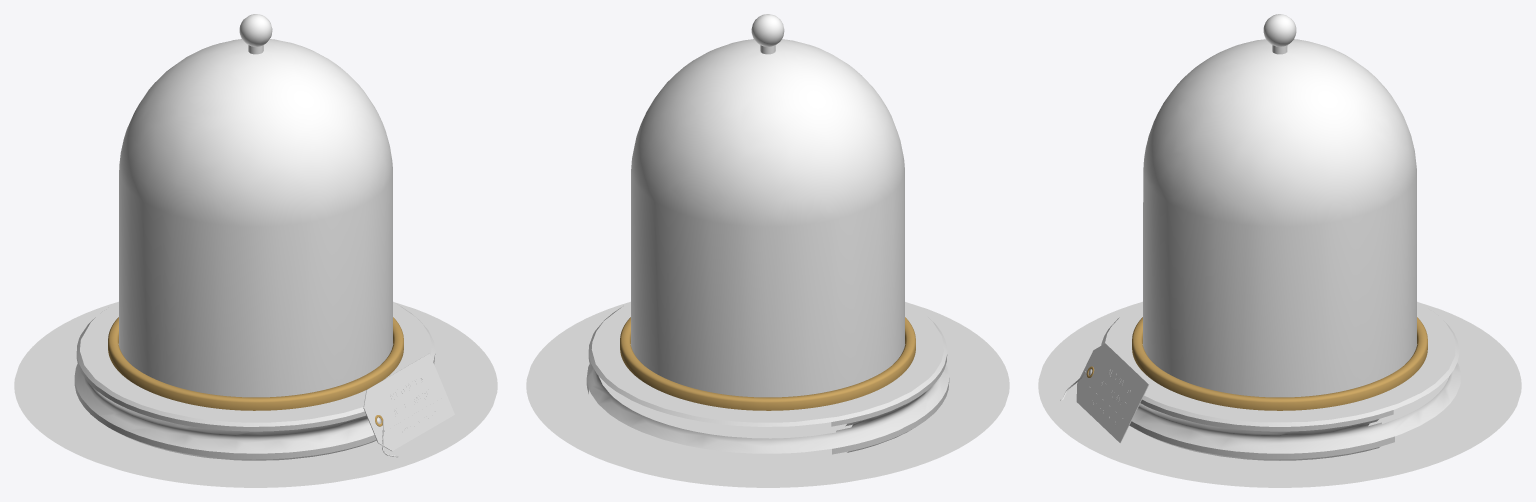
The picture shows the model from 3 angles, left to right: view 1: azimuth 30°, elevation 25°; view 2: azimuth 150°, elevation 25°; view 3: azimuth 270°, elevation 25°; orthographic projection.
Visible parts, largest first — view 1: jar_glass, set_all, jar_rim; view 2: jar_glass, set_all, jar_rim; view 3: jar_glass, set_all, jar_rim.
Part boxes in pixels (<box>): jar_glass: <box>119,14,392,397</box>; set_all: <box>14,301,497,487</box>; jar_rim: <box>108,317,403,410</box>; jar_glass: <box>631,14,904,397</box>; set_all: <box>526,301,1009,487</box>; jar_rim: <box>620,317,915,410</box>; jar_glass: <box>1143,14,1416,397</box>; set_all: <box>1038,301,1521,487</box>; jar_rim: <box>1132,317,1427,410</box>.
Size of the model in its own units: 1.52 by 1.28 by 1.52.
